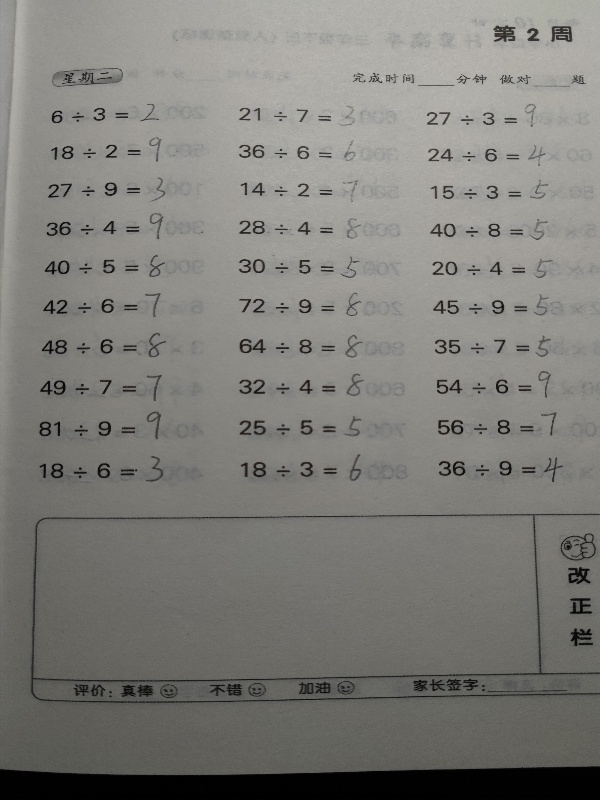equation: (435, 451, 570, 490), (36, 409, 171, 447), (36, 454, 172, 488), (234, 413, 391, 442), (430, 366, 559, 401), (43, 210, 170, 244), (38, 286, 164, 320), (39, 330, 170, 362), (41, 251, 175, 282), (425, 173, 554, 205), (433, 410, 561, 442), (235, 331, 367, 362), (430, 290, 564, 320), (39, 373, 173, 403), (238, 174, 367, 205), (424, 138, 552, 169), (236, 370, 368, 400), (239, 252, 370, 282), (48, 133, 165, 166), (429, 332, 559, 361), (238, 454, 373, 481), (427, 215, 551, 244), (424, 100, 540, 131), (236, 215, 364, 243), (236, 99, 359, 128), (236, 292, 364, 319), (429, 256, 556, 283), (43, 176, 174, 201), (235, 139, 356, 163), (47, 102, 162, 127)
